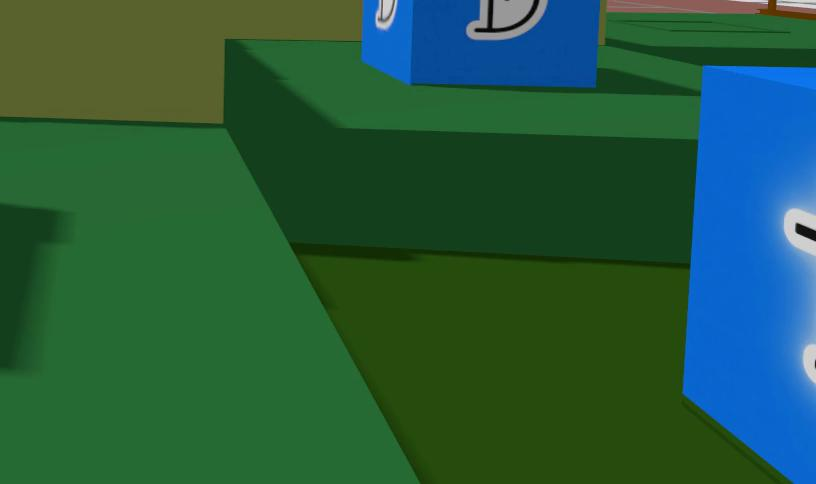KFS_REAL: (683, 66, 815, 483), (360, 0, 600, 86), (467, 0, 547, 39), (783, 208, 815, 254), (784, 210, 815, 253), (375, 0, 397, 28), (803, 343, 815, 381)
